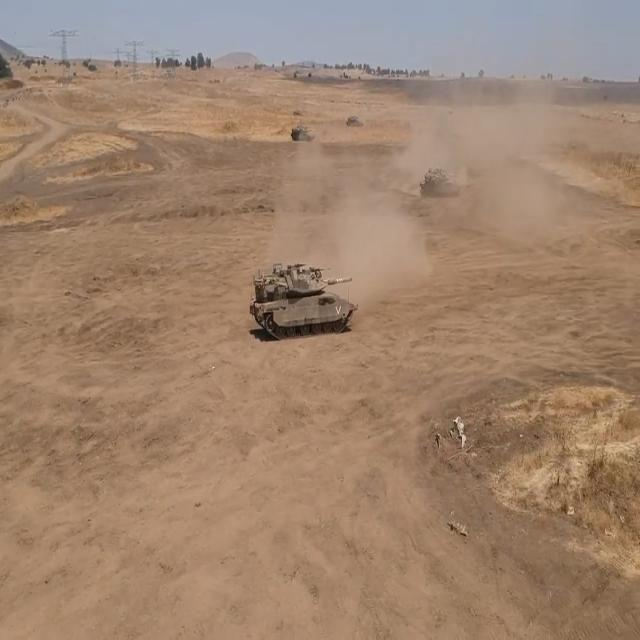tank: (245, 242, 363, 337), (420, 167, 465, 211), (290, 124, 321, 144), (347, 115, 367, 128)
